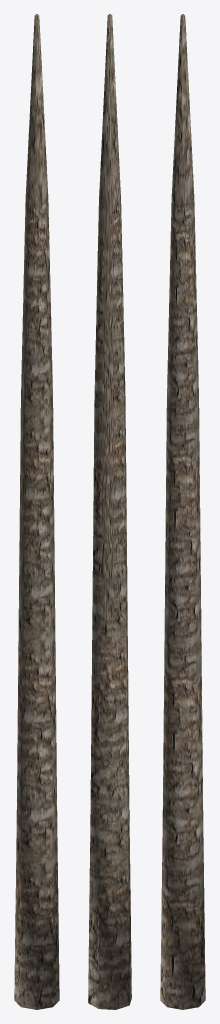
File: Tree_Pine_01_Trunk.obj
3 views of the same model, side by side, from view 1: azimuth 90°, elevation 25°; view 2: azimuth 150°, elevation 25°; view 3: azimuth 270°, elevation 25° (orthographic).
Parts seen in each view (by area): view 1: Trunk_Circle.008; view 2: Trunk_Circle.008; view 3: Trunk_Circle.008.
Part boxes in pixels (box(x1,y1,x2,y2)): Trunk_Circle.008: box(14, 14, 59, 1009); Trunk_Circle.008: box(88, 14, 131, 1009); Trunk_Circle.008: box(160, 14, 205, 1009).
Size of the model in its own units: 0.1839 by 4.42 by 0.1839.
1 material, 1 textured.
